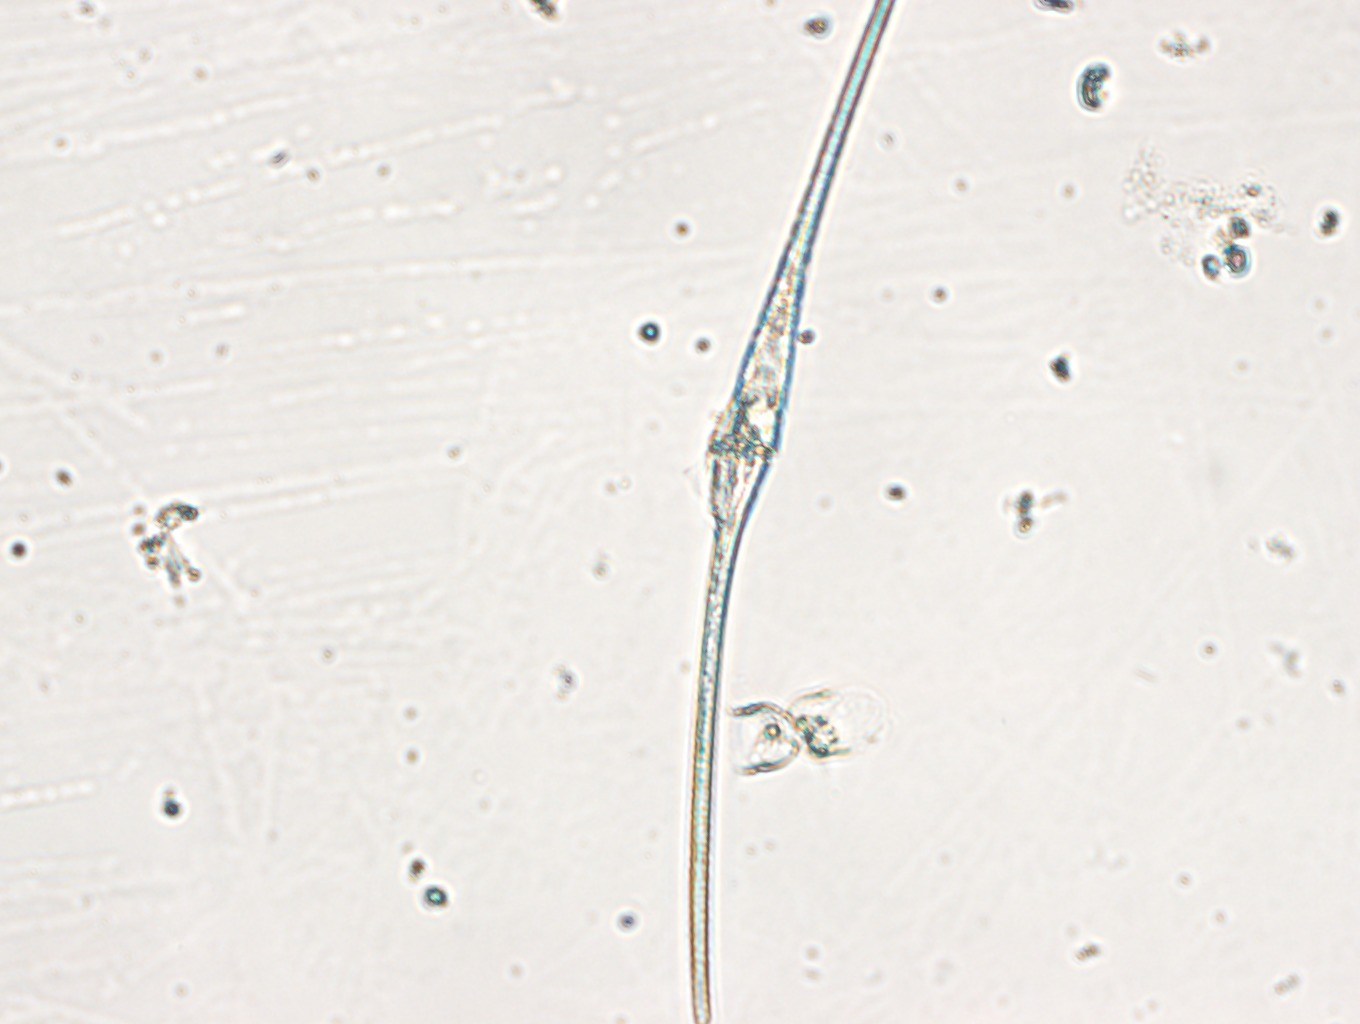ceratium fusus: (681, 1, 902, 1024)
